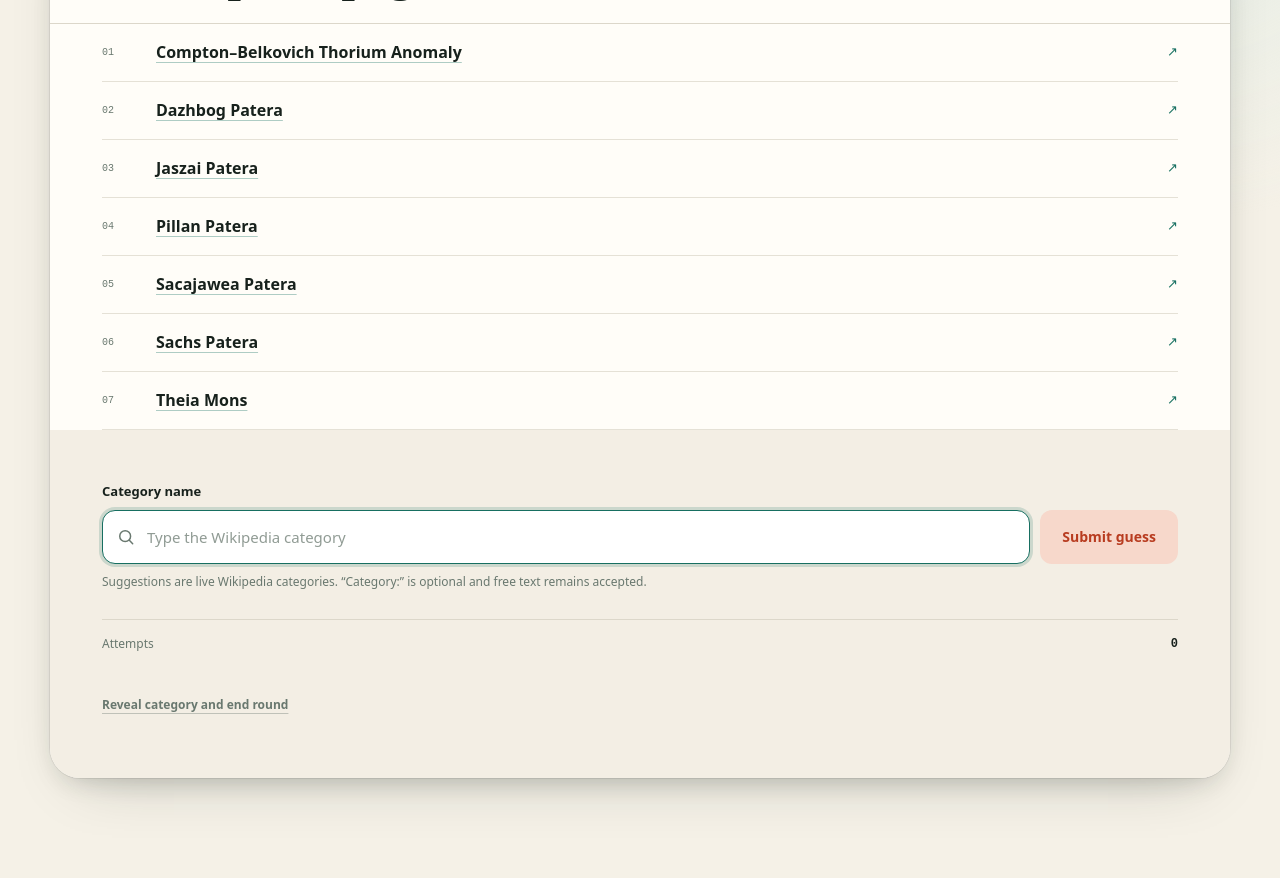
Arcade › keeps incorrect free-text attempts and accepts the canonical category
This screenshot has width=1280, height=878.
(page scrolled)
Type "Volcanoes on Venus" into the dropdown labelled "Category name" at (566, 537), box [102, 510, 1030, 564]
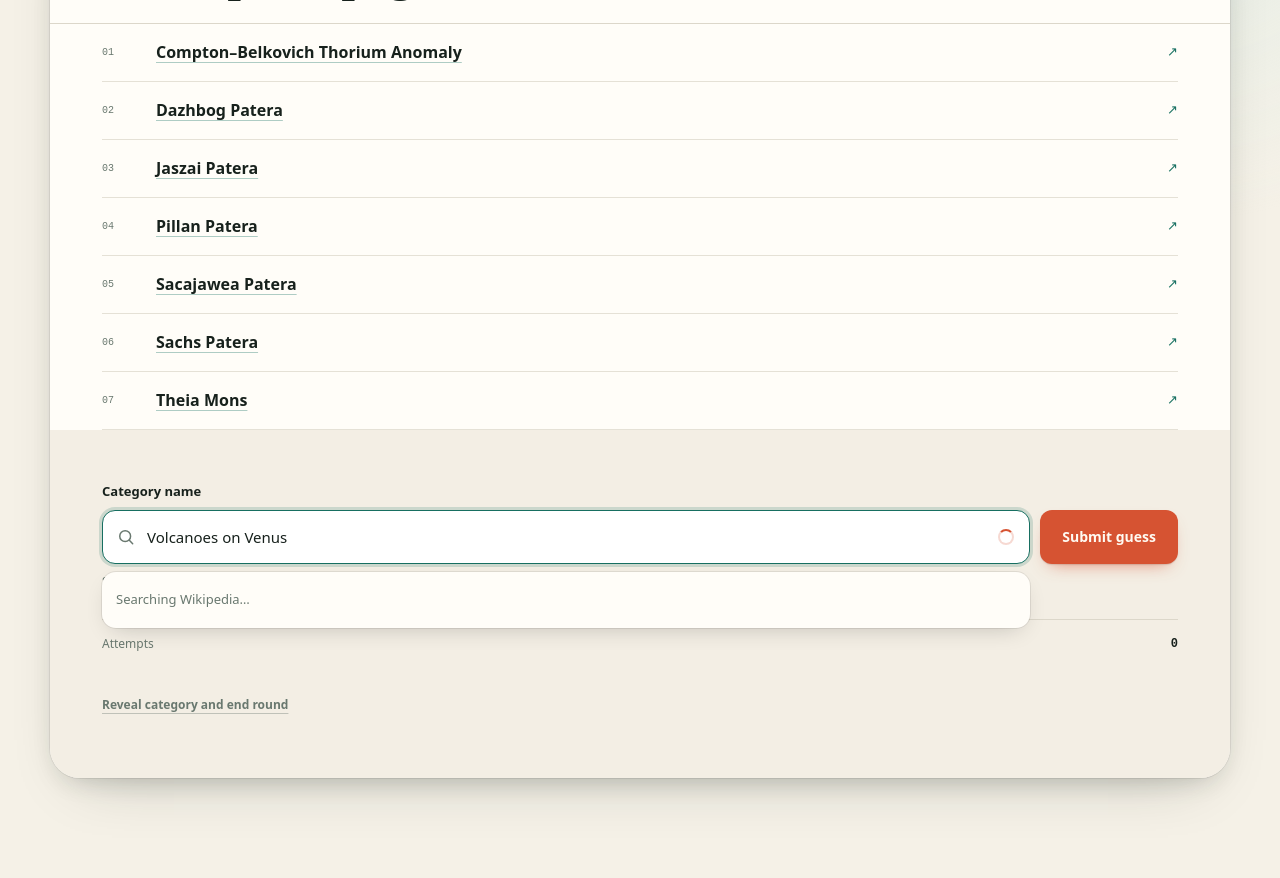
Click the button "Submit guess" at (1109, 537), box [1040, 510, 1178, 564]
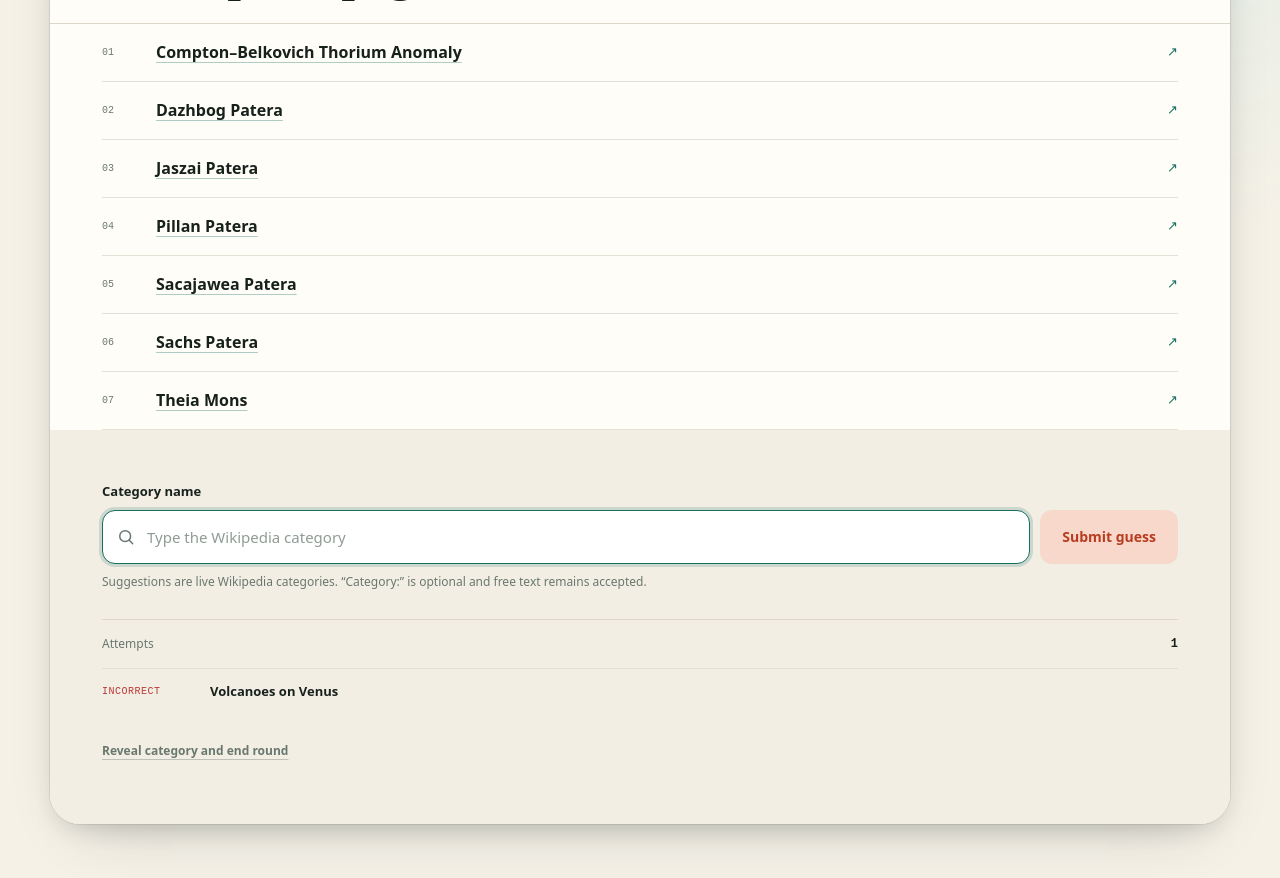
Now the text "Incorrect" is shown, box [102, 686, 160, 697]
Now the text "Volcanoes on Venus" is shown, box [210, 682, 338, 700]
Type "Extraterrestrial volcanic calderas" into the dropdown labelled "Category name" at (566, 537), box [102, 510, 1030, 564]
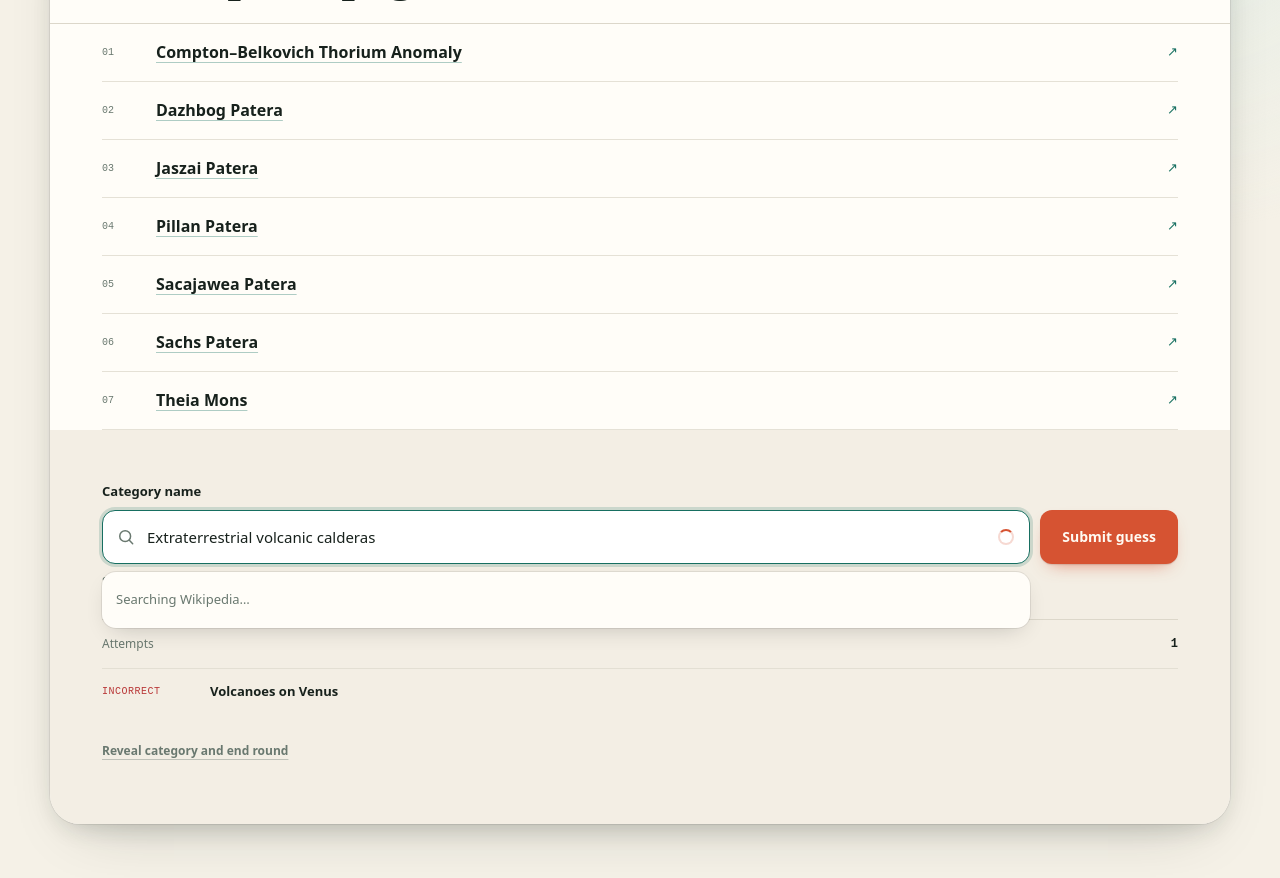
Click the button "Submit guess" at (1109, 537), box [1040, 510, 1178, 564]
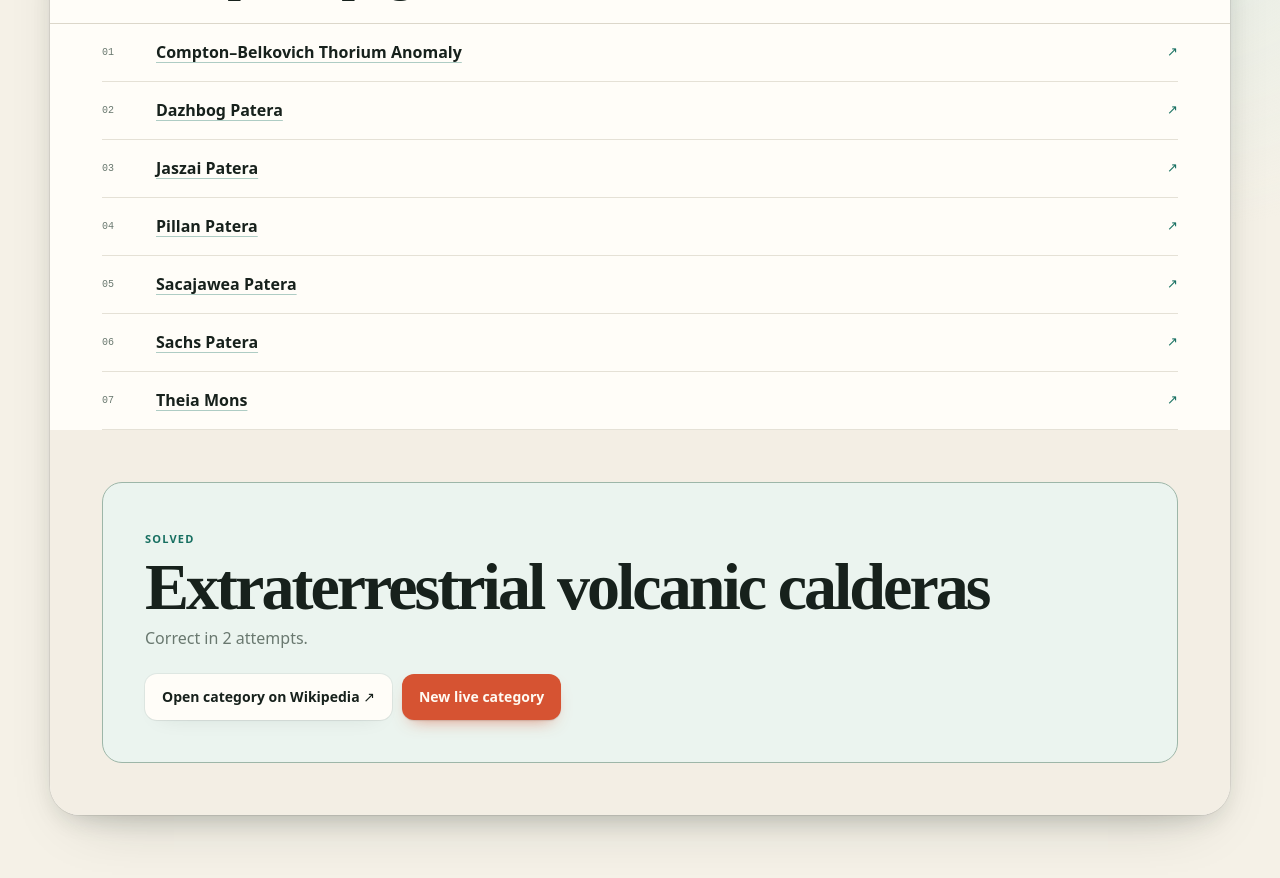
Now the heading "Extraterrestrial volcanic calderas" is shown, box [145, 555, 1135, 618]
Now the text "Correct in 2 attempts." is shown, box [145, 627, 308, 649]
